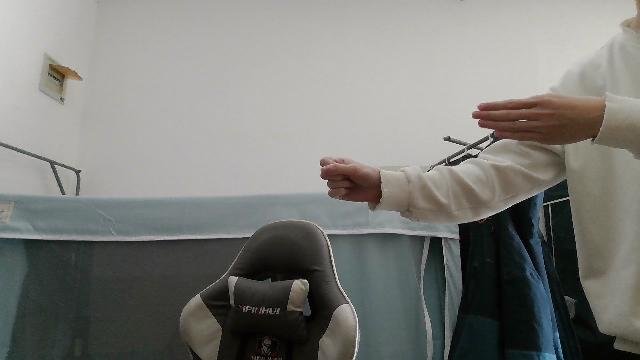four: (472, 88, 602, 146)
ten: (317, 151, 385, 207)
